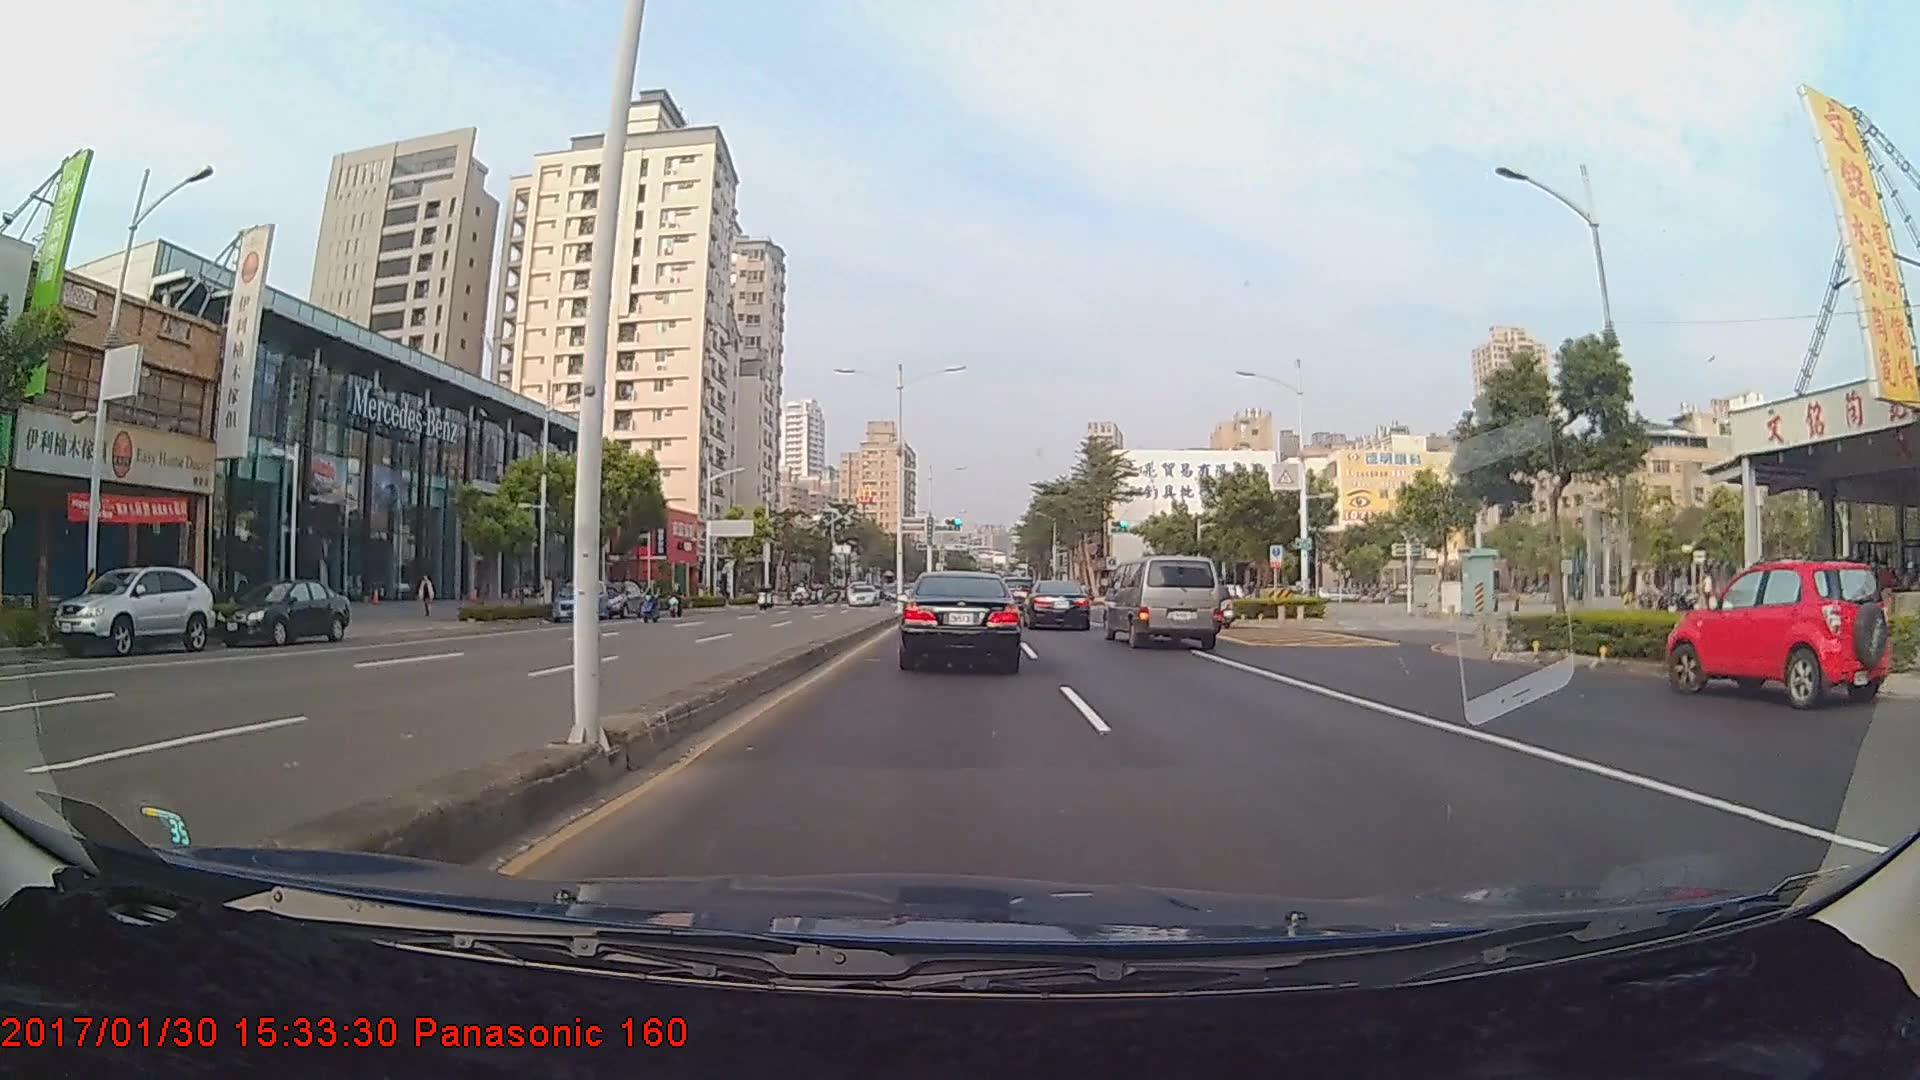pedestrian: (416, 573, 439, 621)
vehicle: (1661, 559, 1890, 706), (50, 564, 212, 657), (899, 569, 1021, 672), (1104, 554, 1220, 648), (215, 578, 351, 647), (1021, 578, 1093, 632), (550, 580, 610, 624), (596, 580, 647, 621), (848, 584, 882, 607)
